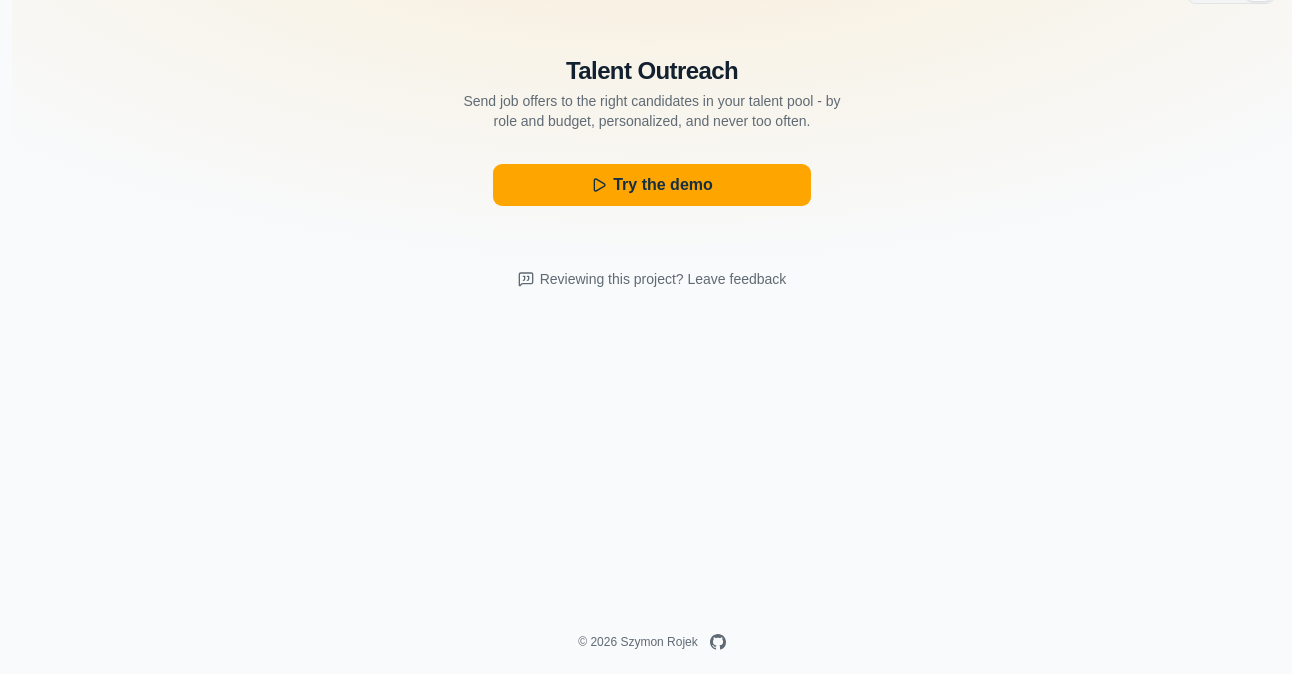
Test: LoginForm › opens the demo with one click - no password
The width and height of the screenshot is (1292, 674).
Click the button "Try the demo".
click(652, 185)  # box 492,163 -> 812,207
(page scrolled)
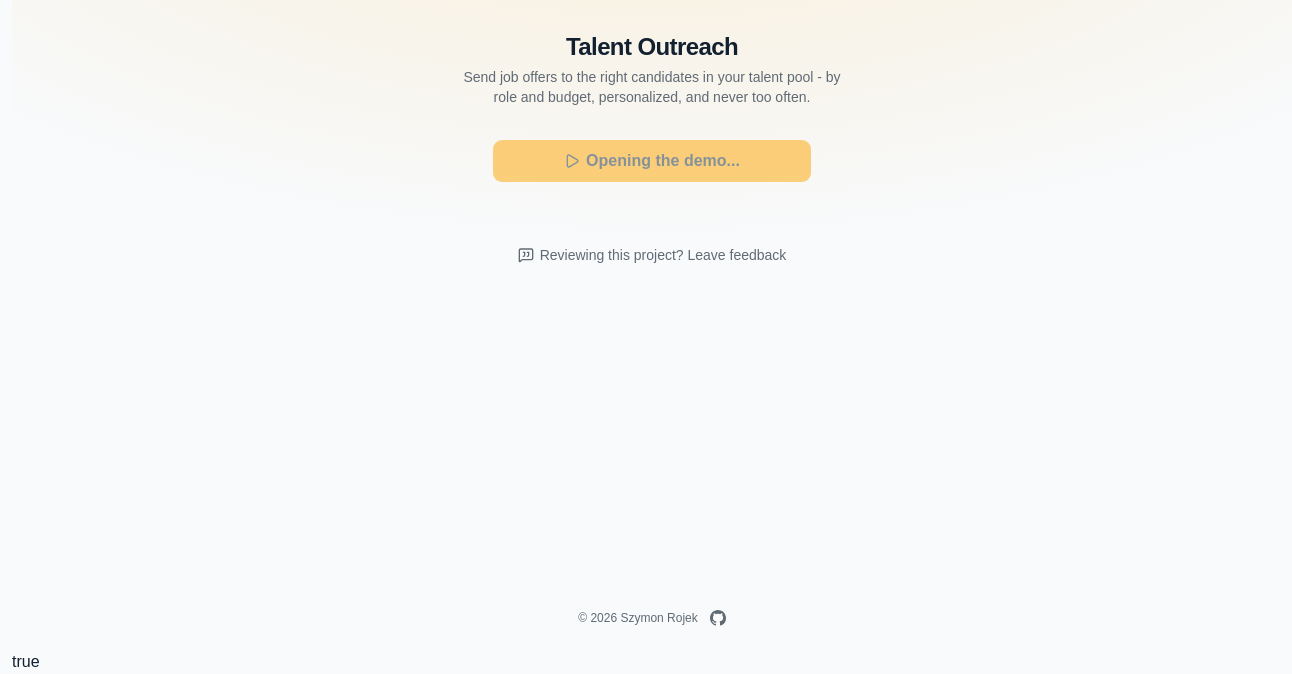
Now the text with test id "login-state" reads "true", box 12,653 -> 40,670
